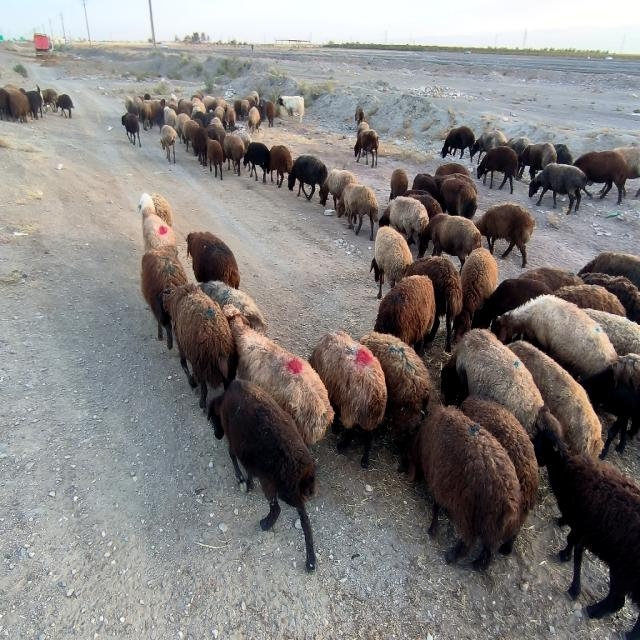sheep: (532, 407, 640, 617), (208, 382, 316, 571), (420, 408, 522, 568), (224, 305, 334, 445), (441, 328, 562, 440), (509, 342, 604, 457), (310, 332, 388, 468), (491, 295, 618, 378), (459, 398, 538, 526), (162, 283, 236, 408), (359, 332, 431, 445), (580, 353, 640, 458), (407, 257, 462, 351), (141, 248, 188, 348), (374, 275, 435, 351), (454, 248, 498, 341), (471, 278, 552, 328), (475, 203, 535, 268), (199, 282, 266, 334), (418, 213, 481, 266), (370, 227, 412, 298), (582, 273, 640, 324), (188, 232, 240, 288), (529, 163, 588, 212), (574, 150, 626, 204), (584, 308, 640, 356), (379, 197, 429, 244), (136, 193, 176, 251), (579, 252, 640, 289), (338, 185, 379, 239), (554, 287, 625, 316), (478, 148, 519, 192), (289, 155, 328, 200), (519, 267, 584, 292), (440, 178, 478, 219), (516, 143, 556, 180), (470, 130, 508, 162), (441, 127, 475, 158), (0, 87, 30, 122), (244, 142, 270, 182), (224, 133, 245, 176), (270, 145, 292, 186), (354, 130, 379, 166), (615, 148, 640, 179), (413, 173, 440, 201), (152, 193, 174, 227), (191, 127, 209, 167), (121, 112, 141, 146), (389, 168, 409, 199), (208, 138, 222, 179), (161, 125, 176, 163), (206, 118, 225, 146), (182, 120, 199, 151), (435, 163, 470, 177), (41, 88, 59, 112), (56, 95, 74, 118), (175, 113, 190, 138), (164, 105, 178, 128), (248, 107, 260, 132), (265, 100, 276, 126), (241, 100, 251, 118)
